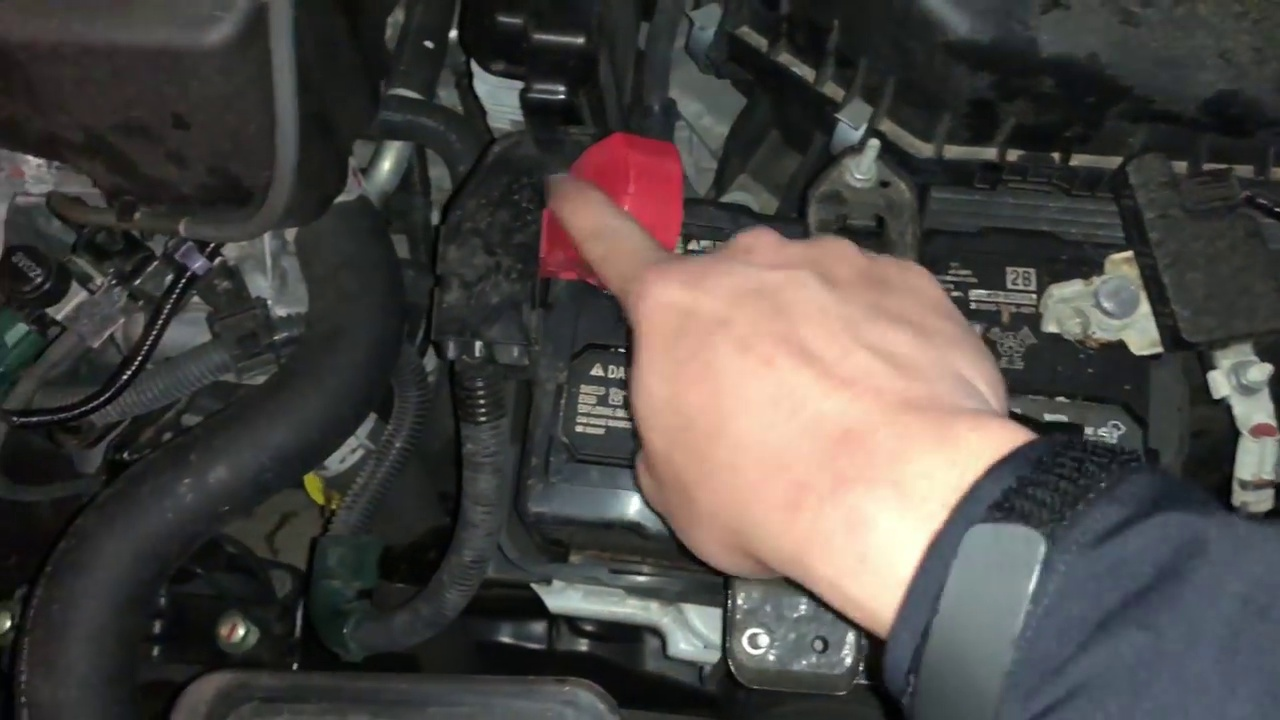battery: (543, 151, 1168, 521)
neg_connected: (1020, 243, 1187, 375)
pos_touched: (516, 139, 759, 377)
